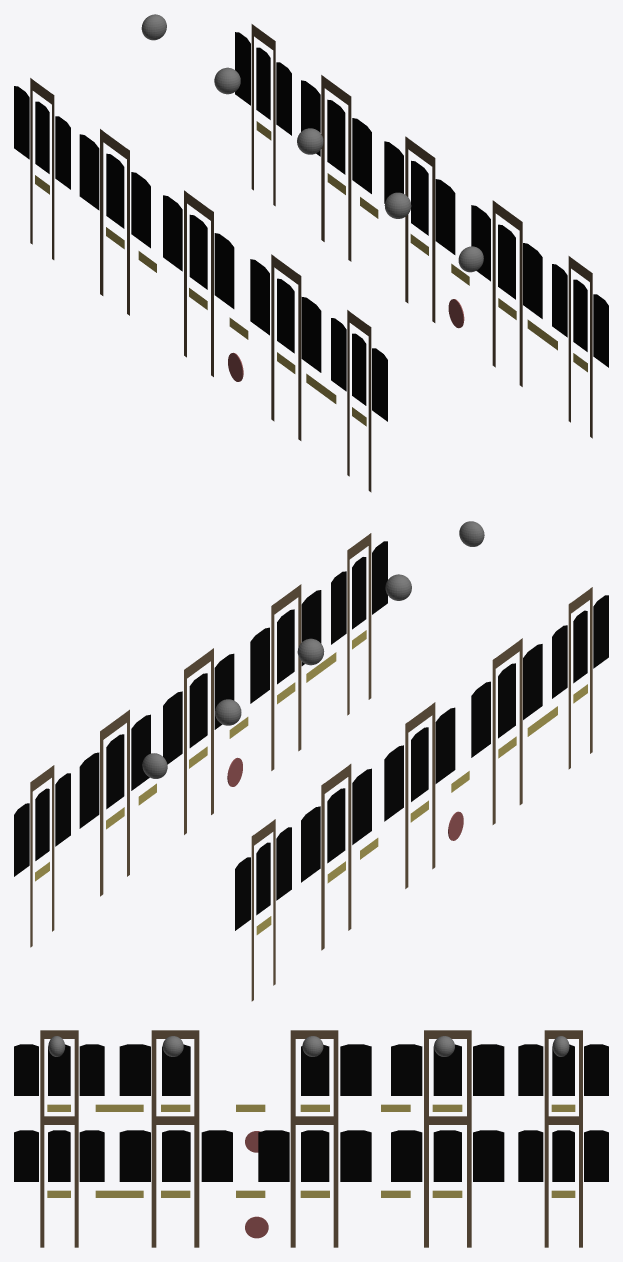
File: ltsr-6wheel-dia8-windows.dae
The picture shows the model from 3 angles, top to bottom: view 1: azimuth 30°, elevation 25°; view 2: azimuth 150°, elevation 25°; view 3: azimuth 270°, elevation 25°; orthographic projection. The views are drawn at different scales.
Visible parts, largest first — view 1: Plane_420, Plane_415, Plane_418, Plane_449, Plane_414, Plane_421, Plane_446, Plane_419, Plane_452, Plane_417, Plane_422, Plane_445 (+27 smaller); view 2: Plane_447, Plane_418, Plane_419, Plane_414, Plane_420, Plane_421, Plane_453, Plane_415, Plane_448, Plane_422, Plane_445, Plane_450 (+27 smaller); view 3: Plane_446, Plane_447, Plane_448, Plane_452, Plane_453, Plane_449, Plane_415, Plane_420, Plane_421, Plane_419, Plane_451, Plane_445 (+48 smaller).
Boxes of the visible parts, x1,y1,x2,y2 form: Plane_420: (79,134,99,210); Plane_415: (301,297,321,372); Plane_418: (214,233,234,308); Plane_449: (435,179,455,254); Plane_414: (250,259,269,335); Plane_421: (131,172,150,248); Plane_446: (352,118,371,193); Plane_419: (163,195,182,271); Plane_452: (523,243,542,318); Plane_417: (189,214,207,289); Plane_422: (106,153,124,228); Plane_445: (327,99,345,174); Plane_447: (79,752,99,828); Plane_418: (435,707,455,783); Plane_419: (384,745,403,821); Plane_414: (471,681,490,757); Plane_420: (301,806,320,882); Plane_421: (352,768,371,844); Plane_453: (250,627,269,703); Plane_415: (523,644,542,719); Plane_448: (163,691,182,764); Plane_422: (327,788,345,863); Plane_445: (106,734,124,809); Plane_450: (189,673,207,747); Plane_446: (391,1130,422,1181); Plane_447: (473,1130,504,1181); Plane_448: (340,1130,371,1181); Plane_452: (119,1130,150,1181); Plane_453: (201,1130,232,1181); Plane_449: (258,1130,289,1181); Plane_415: (119,1044,150,1095); Plane_420: (473,1044,504,1095); Plane_421: (391,1044,422,1095); Plane_419: (340,1044,371,1095); Plane_451: (162,1130,190,1181); Plane_445: (433,1130,461,1181).
Bounding box in the file's own units: 1.73 × 5.06 × 1.58.
